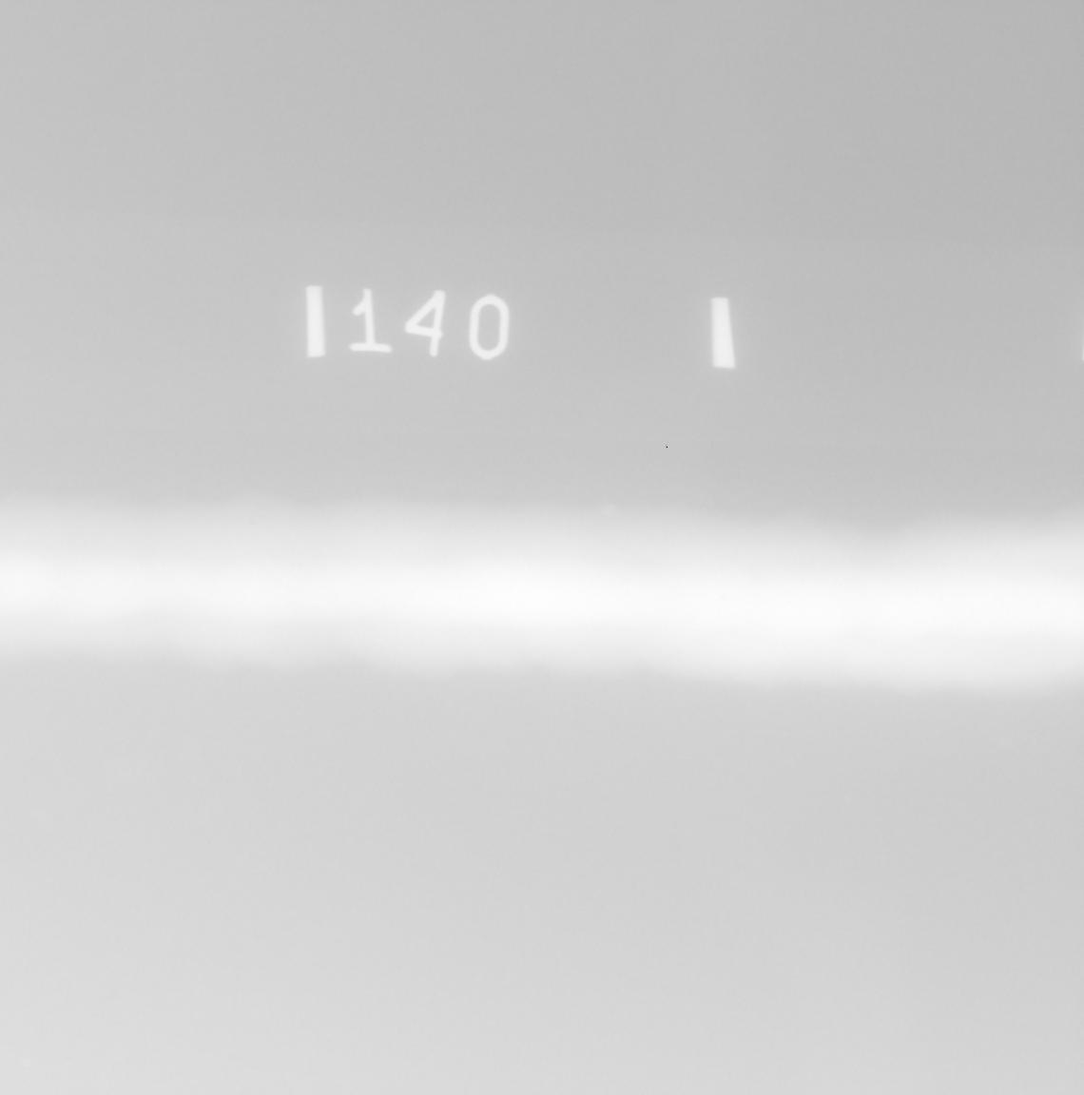Pore/Porosity: (721, 594, 729, 600), (250, 520, 255, 526)
